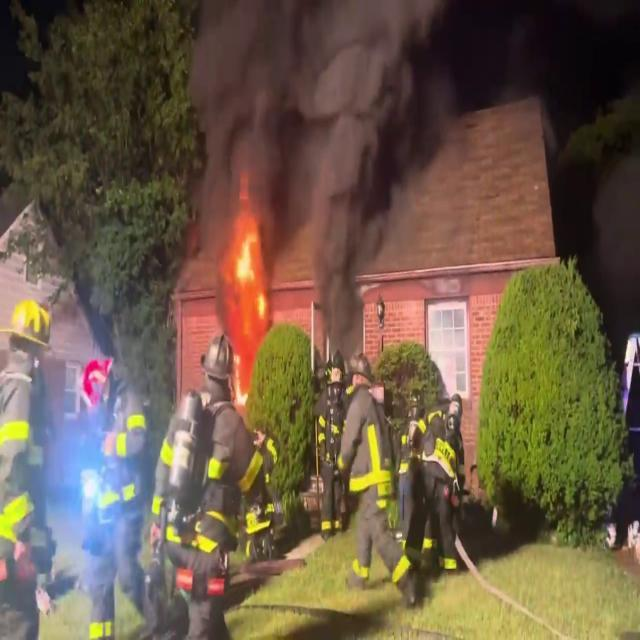Fire: (226, 215, 272, 340)
Smoke: (180, 0, 447, 236)
